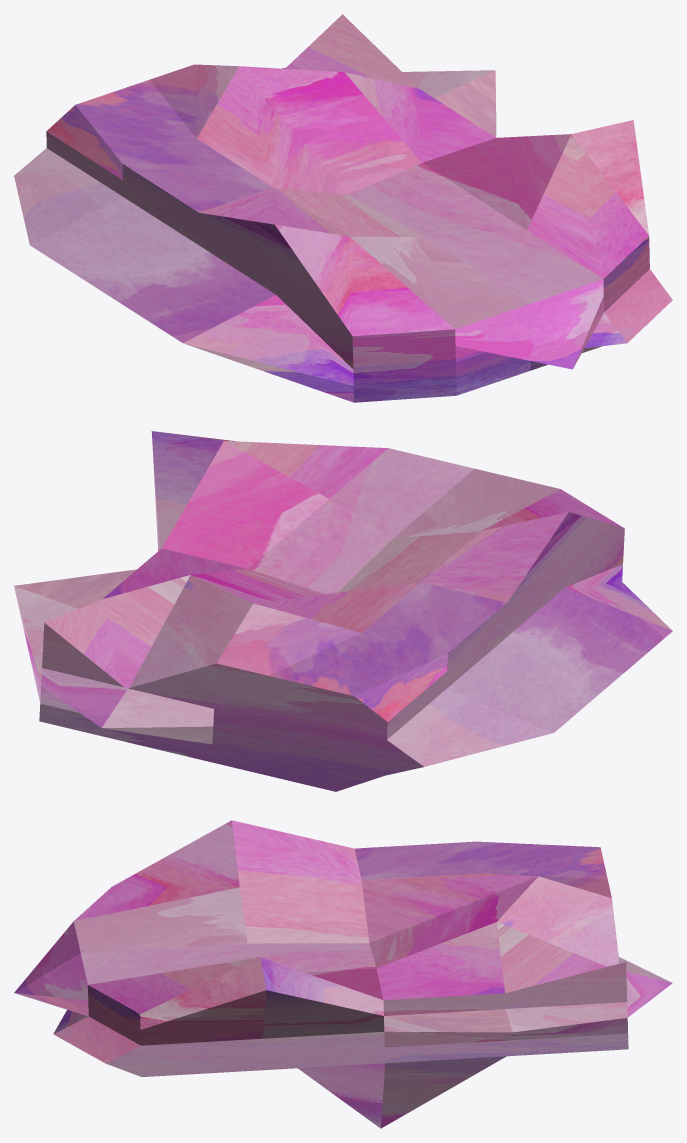
File: pinkplatform.fbx
3 views of the same model, one above another, from view 1: azimuth 30°, elevation 25°; view 2: azimuth 150°, elevation 25°; view 3: azimuth 270°, elevation 25° (orthographic). The views are drawn at different scales.
Visible parts, largest first — view 1: Cube; view 2: Cube; view 3: Cube.
Boxes of the visible parts, x1,y1,x2,y2 form: Cube: [14, 14, 672, 402]; Cube: [14, 431, 672, 791]; Cube: [14, 820, 672, 1128].
Size of the model in its own units: 9.26 by 4.07 by 11.71.
1 material, 1 textured.
